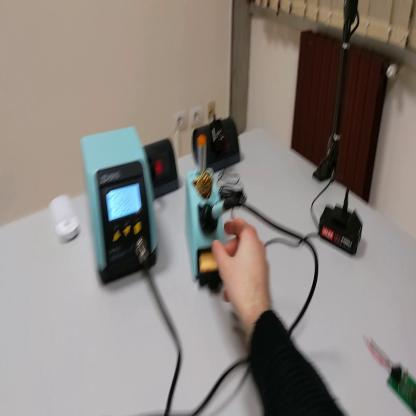electric screwdriver battery: (319, 202, 364, 256)
hand: (214, 218, 272, 318)
high voltage board: (367, 335, 416, 414)
socket: (193, 115, 240, 175), (145, 134, 181, 202)
welder base: (186, 135, 228, 292)
welder probe tip: (201, 205, 240, 236)
welder station: (82, 129, 162, 290)
